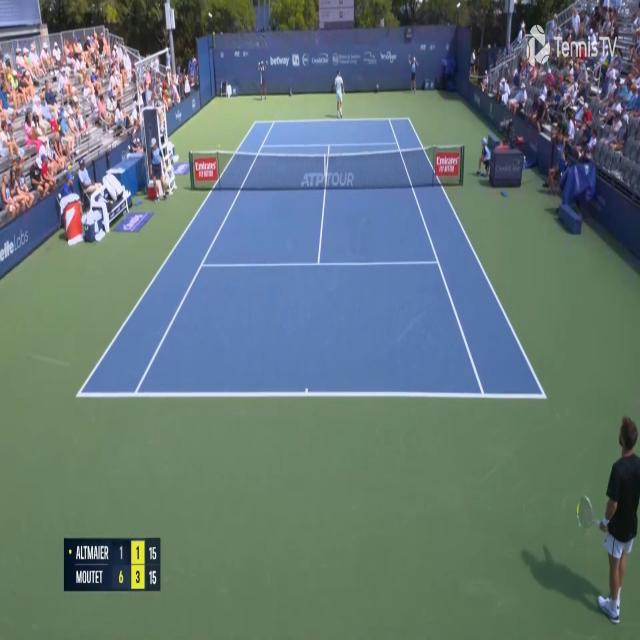tennis-player: (575, 414, 640, 621), (332, 68, 345, 119)
